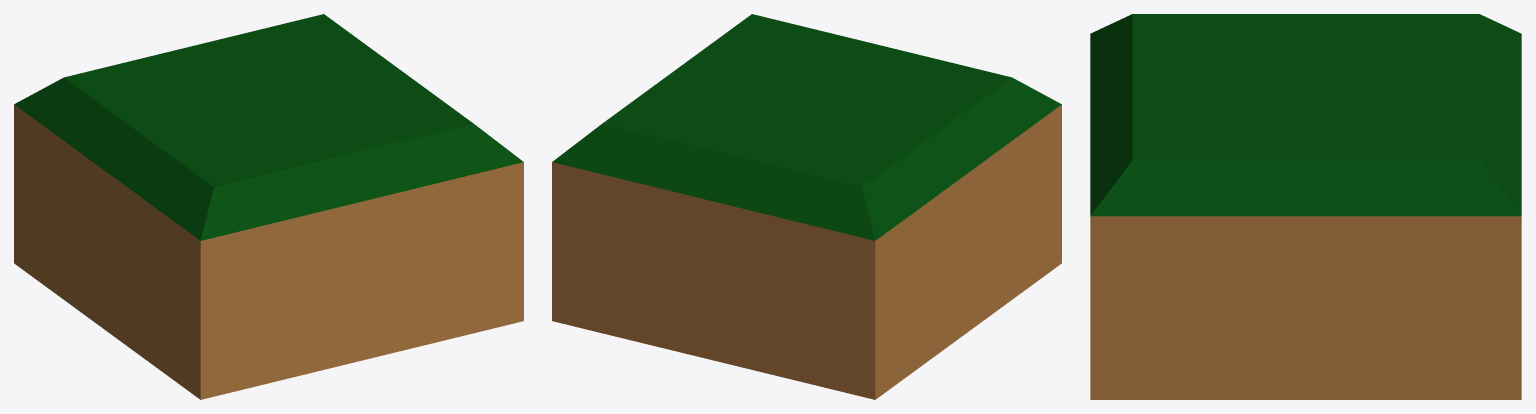
Rendered from Dirt.fbx.
3 renders of one model, left to right at view 1: azimuth 30°, elevation 25°; view 2: azimuth 150°, elevation 25°; view 3: azimuth 270°, elevation 25°, orthographic. The views are drawn at different scales.
Visible parts, largest first — view 1: Cube.004; view 2: Cube.004; view 3: Cube.004.
Part boxes in pixels (box(x1,y1,x2,y2)): Cube.004: box(14, 14, 523, 399); Cube.004: box(552, 14, 1061, 399); Cube.004: box(1090, 14, 1521, 399).
Bounding box in the file's own units: 7.31 × 4.14 × 7.31.
